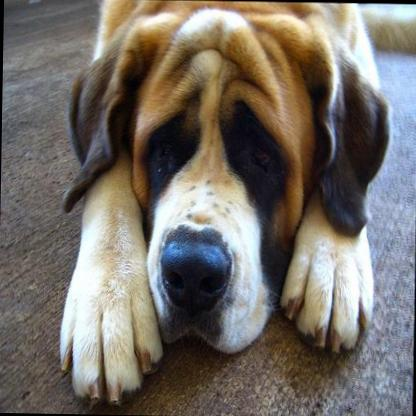Saint_Bernard: (55, 0, 391, 407)
